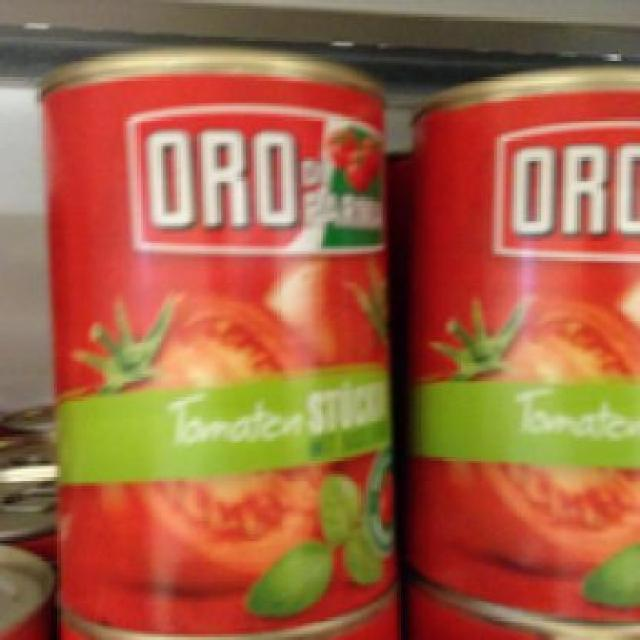Tomato Sauce: (32, 46, 394, 634), (400, 60, 634, 626)
